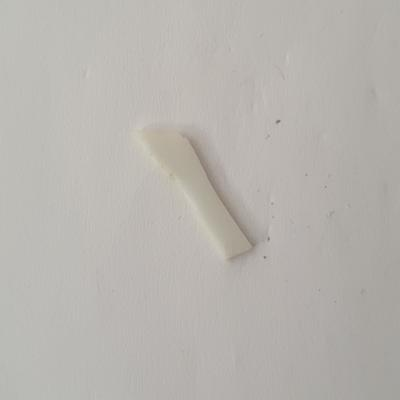plastic: (136, 119, 262, 268)
